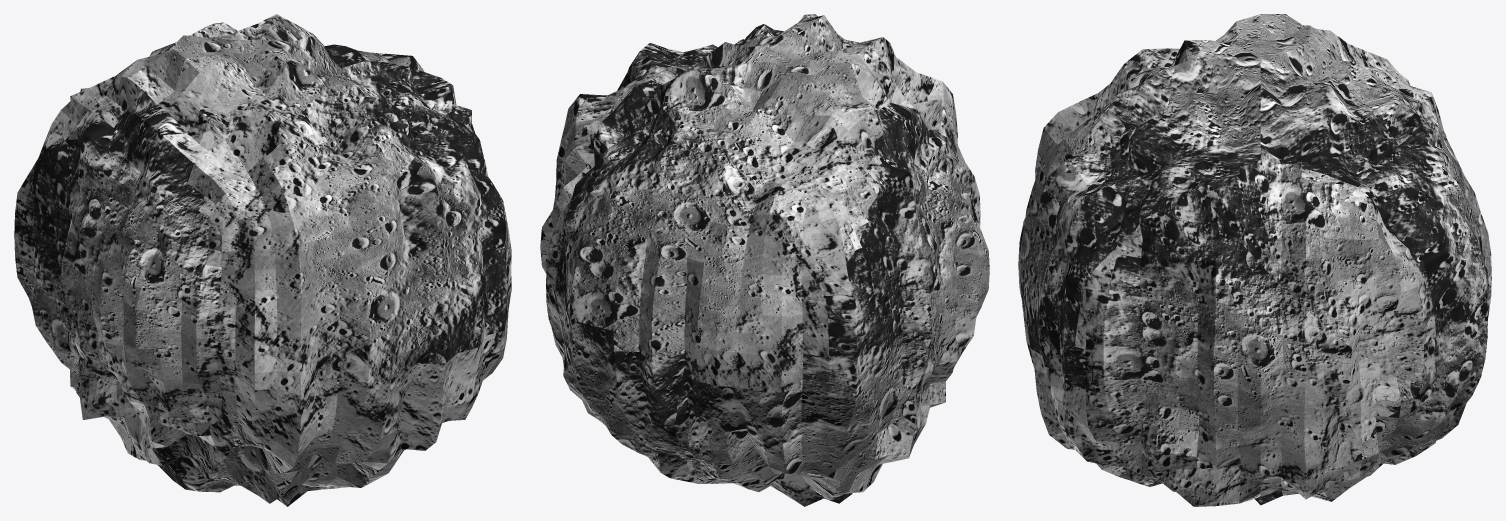
File: asteroid37.obj
3 views of the same model, side by side, from view 1: azimuth 30°, elevation 25°; view 2: azimuth 150°, elevation 25°; view 3: azimuth 270°, elevation 25° (orthographic).
Visible parts, largest first — view 1: Cube_Cube.002; view 2: Cube_Cube.002; view 3: Cube_Cube.002.
Boxes of the visible parts, left/top/right/bottom form: Cube_Cube.002: left=14, top=14, right=511, bottom=506; Cube_Cube.002: left=540, top=14, right=989, bottom=506; Cube_Cube.002: left=1018, top=14, right=1491, bottom=506.
Size of the model in its own units: 1.73 by 1.87 by 1.79.
